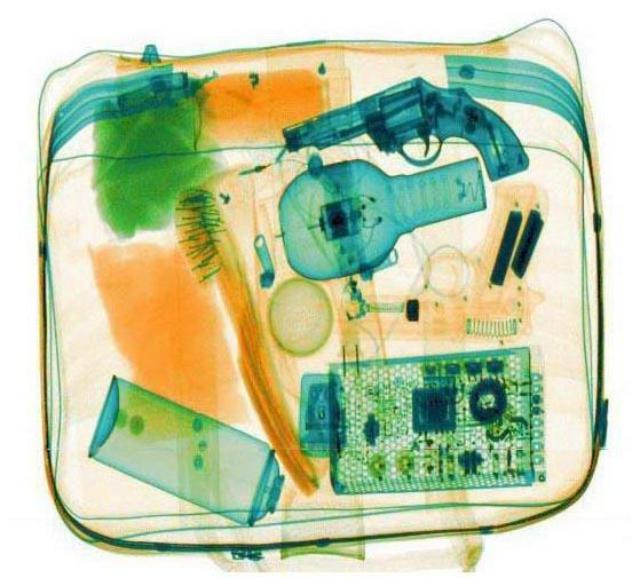Gun: (277, 72, 529, 181)
